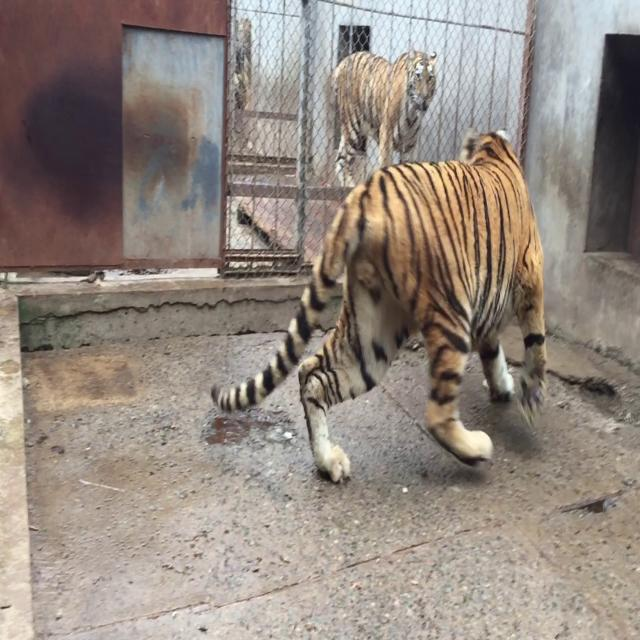Tiger: (172, 90, 584, 586), (329, 45, 441, 187)
